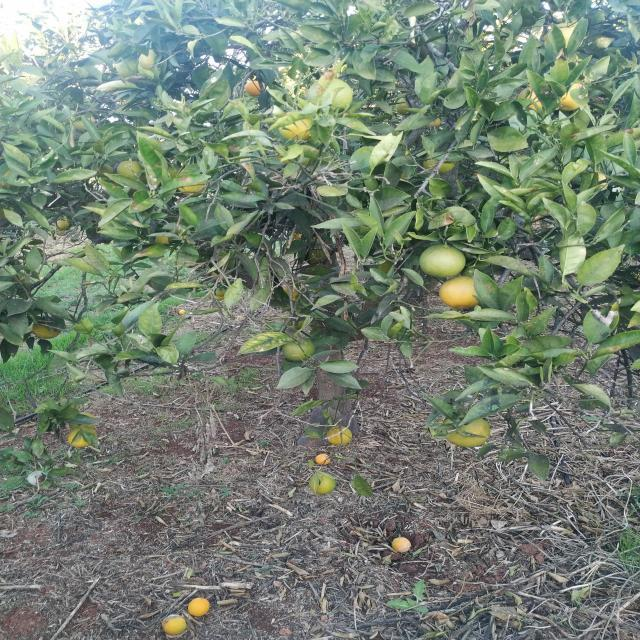Jeruk Belum Matang: (418, 243, 467, 279), (440, 416, 490, 448), (282, 339, 314, 361), (309, 474, 338, 497), (422, 154, 455, 173), (69, 428, 98, 449), (177, 178, 209, 196), (118, 159, 144, 180), (139, 49, 160, 72), (328, 427, 353, 445), (71, 412, 98, 428), (396, 97, 410, 116), (155, 234, 169, 244), (56, 220, 70, 229), (216, 288, 226, 297)
Jeruk Sudah Matang: (438, 277, 483, 309), (547, 22, 582, 50), (560, 82, 589, 111), (278, 119, 312, 141), (518, 85, 542, 114), (188, 597, 210, 616), (31, 324, 60, 338), (246, 80, 266, 94)
